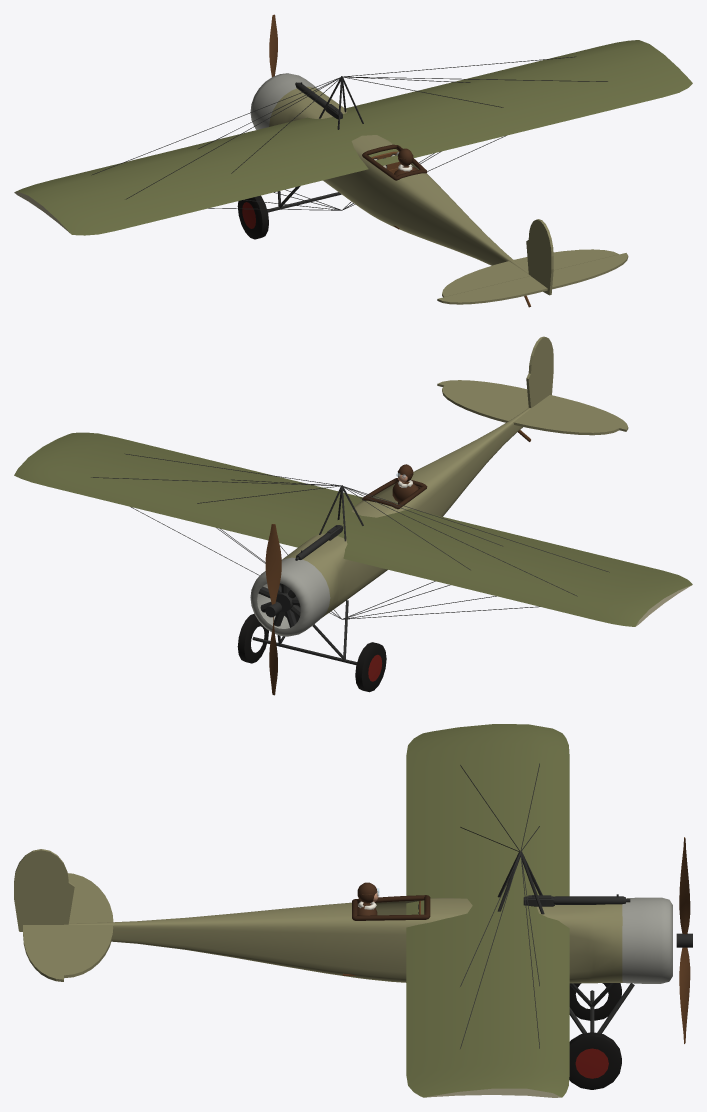
Rendered from fokker_eiii.glb.
The picture shows the model from 3 angles, top to bottom: view 1: azimuth 30°, elevation 25°; view 2: azimuth 150°, elevation 25°; view 3: azimuth 270°, elevation 25°; orthographic projection. The views are drawn at different scales.
Visible parts, largest first — view 1: Wing_Main_L, Wing_Main_R, Fuselage, Elevator, Wires, Rudder, Cowling, Stabilizer_L, Wheels, Stabilizer_R, Coaming, Undercarriage; view 2: Wing_Main_L, Wing_Main_R, Fuselage, Cowling, Wires, Elevator, Wheels, Stabilizer_L, PropBlades, Stabilizer_R, Rudder, RotaryEngine (+3 smaller); view 3: Wing_Main_R, Wing_Main_L, Fuselage, Cowling, Rudder, Wheels, Stabilizer_R, Elevator, PropBlades, Stabilizer_L, Wires, Guns (+4 smaller).
Boxes of the visible parts, bbox=[...] form: Wing_Main_L: bbox=[14, 117, 388, 235]; Wing_Main_R: bbox=[341, 40, 692, 163]; Fuselage: bbox=[269, 86, 528, 274]; Elevator: bbox=[437, 253, 628, 304]; Wires: bbox=[91, 56, 607, 210]; Rudder: bbox=[526, 219, 553, 295]; Cowling: bbox=[250, 73, 319, 129]; Stabilizer_L: bbox=[442, 261, 530, 297]; Wheels: bbox=[237, 195, 268, 239]; Stabilizer_R: bbox=[514, 249, 618, 271]; Coaming: bbox=[362, 144, 427, 180]; Undercarriage: bbox=[267, 186, 530, 307]; Wing_Main_L: bbox=[337, 509, 692, 626]; Wing_Main_R: bbox=[14, 432, 362, 547]; Fuselage: bbox=[282, 408, 530, 617]; Cowling: bbox=[250, 557, 330, 636]; Wires: bbox=[91, 453, 609, 619]; Elevator: bbox=[437, 380, 628, 431]; Wheels: bbox=[237, 614, 386, 692]; Stabilizer_L: bbox=[513, 407, 619, 435]; PropBlades: bbox=[265, 524, 281, 695]; Stabilizer_R: bbox=[442, 385, 528, 422]; Rudder: bbox=[526, 336, 553, 407]; RotaryEngine: bbox=[258, 584, 300, 627]; Wing_Main_R: bbox=[406, 904, 569, 1097]; Wing_Main_L: bbox=[406, 724, 569, 914]; Fuselage: bbox=[68, 898, 622, 983]; Cowling: bbox=[622, 897, 672, 983]; Rudder: bbox=[14, 849, 74, 931]; Wheels: bbox=[569, 983, 621, 1089]; Stabilizer_R: bbox=[64, 924, 113, 978]; Elevator: bbox=[23, 925, 63, 981]; PropBlades: bbox=[676, 837, 692, 1043]; Stabilizer_L: bbox=[67, 873, 113, 923]; Wires: bbox=[460, 763, 539, 1048]; Guns: bbox=[523, 894, 630, 906].
Size of the model in its own units: 9.52 by 2.63 by 7.49.
